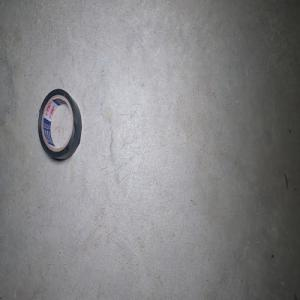Tape: (37, 88, 81, 160)
